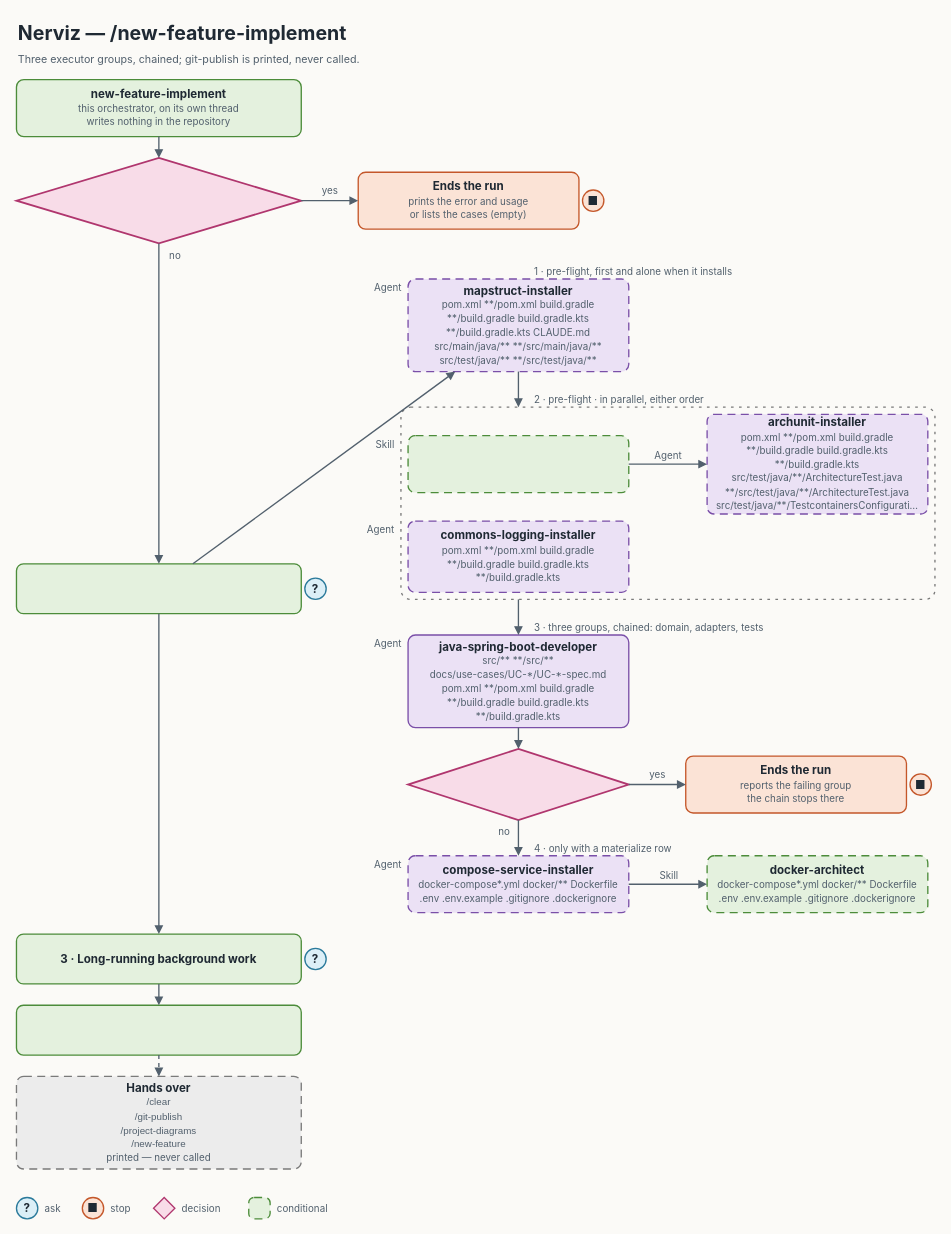
Image size: 951x1234. Some labels were removed from this diagram. Here are the shapes that lost their labels. From the top down, the centre of each, then its label:
At (x=158, y=200): "1 · Entry guardrail no approved case given?".
At (x=518, y=464): "test-architect docs/use-cases/UC-*/** docs/use-cases/BACKLOG.md".
At (x=158, y=588): "2 · Implement".
At (x=518, y=784): "a group fails?".
At (x=158, y=1029): "4 · Final report".
